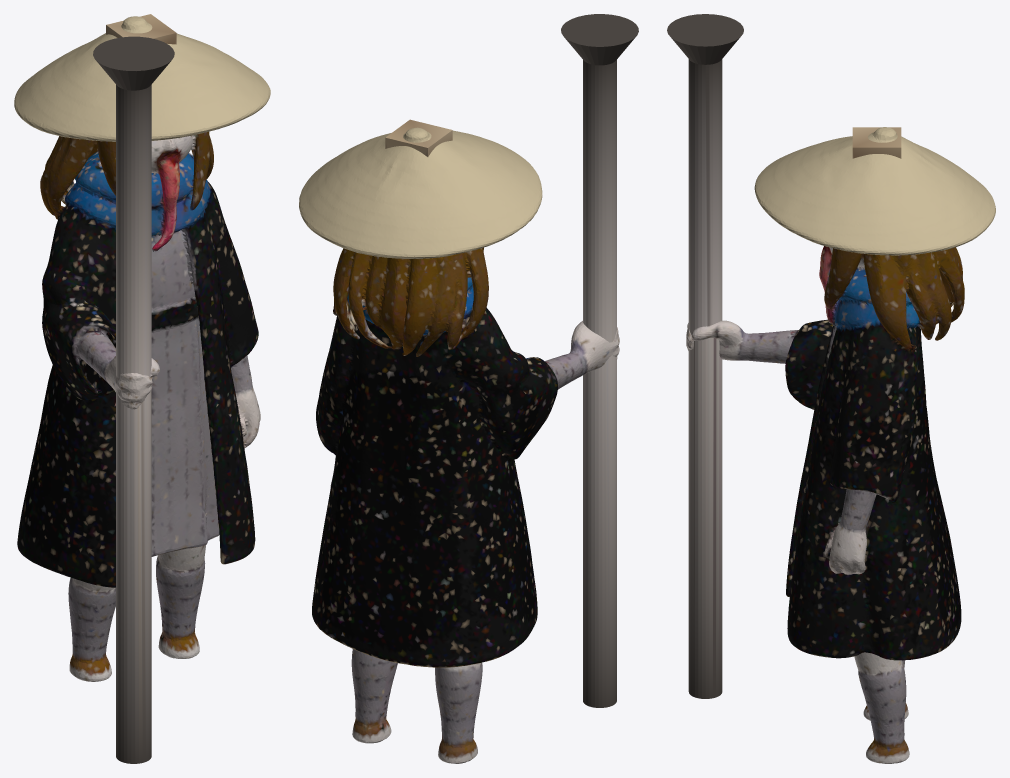
The model's file is figurine_assembled.glb.
3 renders of one model, left to right at view 1: azimuth 30°, elevation 25°; view 2: azimuth 150°, elevation 25°; view 3: azimuth 270°, elevation 25°, orthographic. The views are drawn at different scales.
Parts seen in each view (by area): view 1: world; view 2: world; view 3: world.
Boxes of the visible parts, x1=… form: world: x1=14, y1=14, x2=270, y2=763; world: x1=299, y1=14, x2=638, y2=763; world: x1=667, y1=14, x2=995, y2=763.
Size of the model in its own units: 54.5 by 150 by 67.59.
